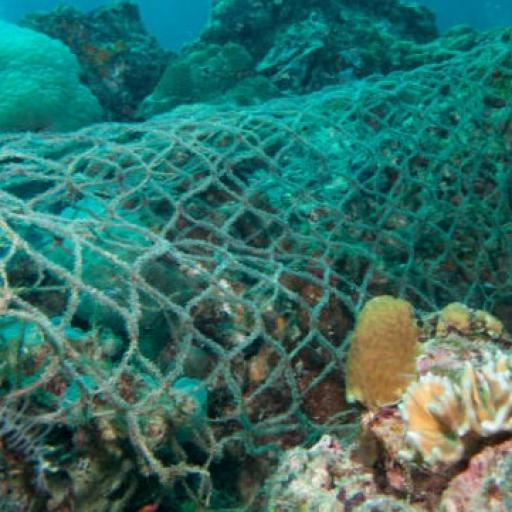net: (0, 65, 512, 458)
